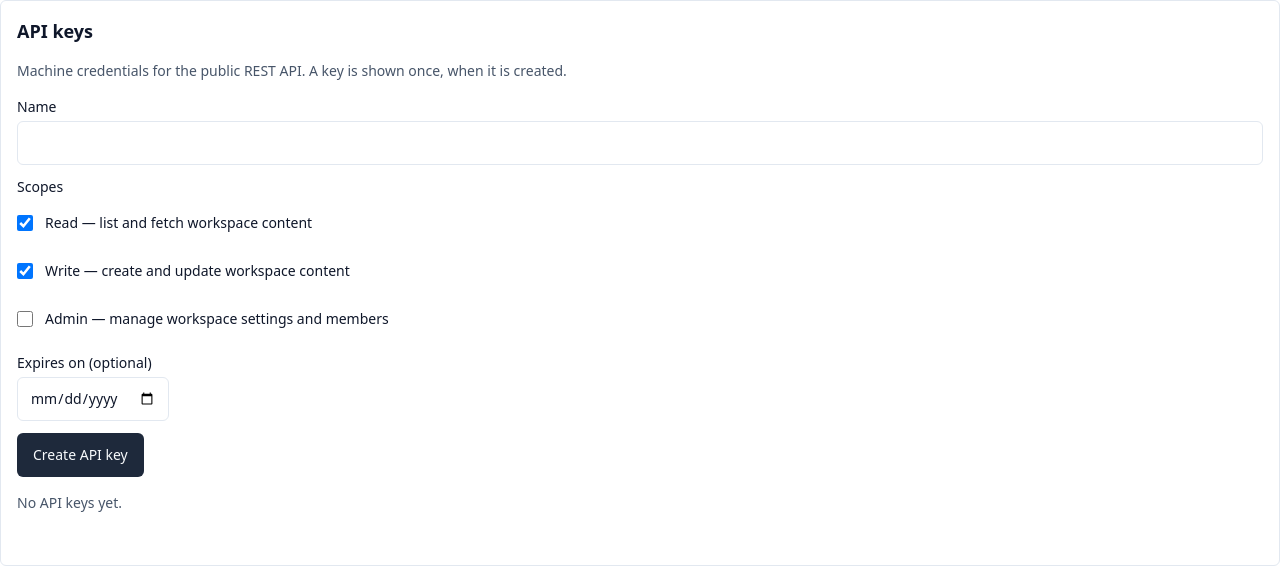
Test: ApiKeys › refuses to submit without a scope and reports it in the live region
The image size is (1280, 583).
Expected: the text "No API keys yet." is shown, [17,493,122,512]
Step 1. Click the checkbox labelled "Read — list and fetch workspace content" → coordinates (25, 223), box [17,215,33,231]
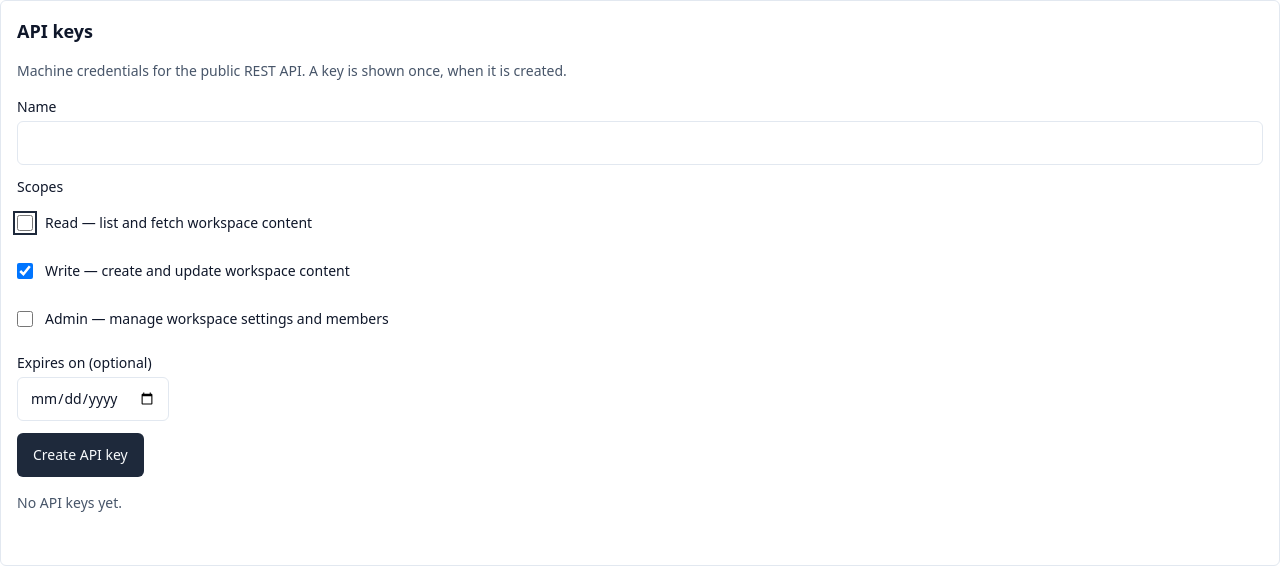
Step 2. Click the checkbox labelled "Write — create and update workspace content" → coordinates (25, 271), box [17,263,33,279]
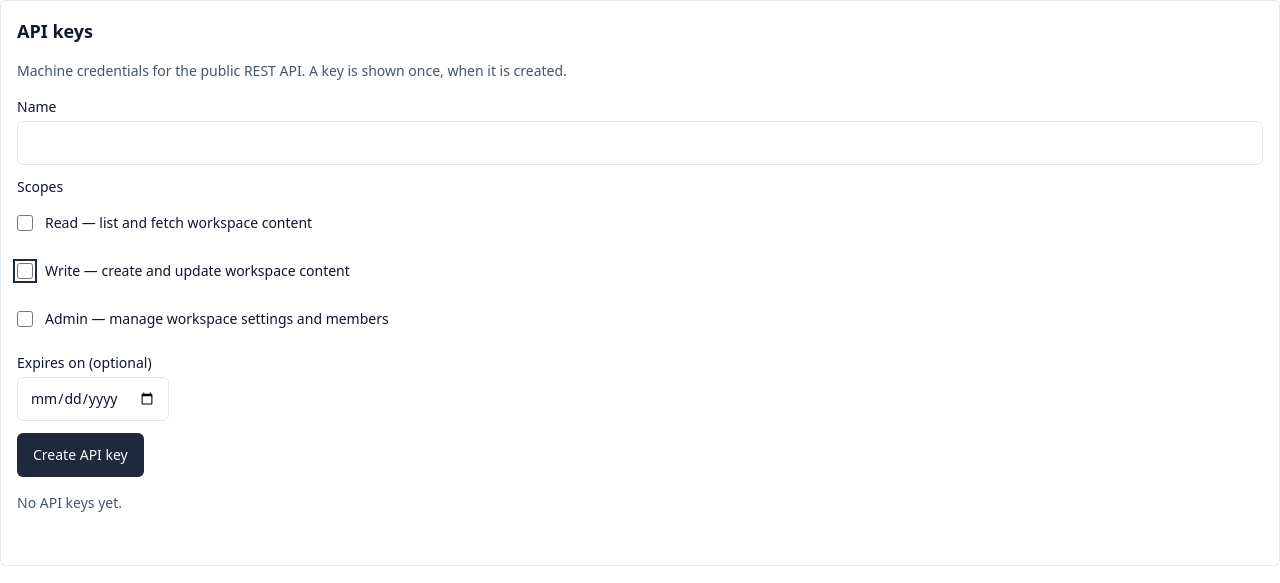
Step 3. Type "CI deploy" into the field labelled "Name" → coordinates (640, 143), box [17,121,1263,165]
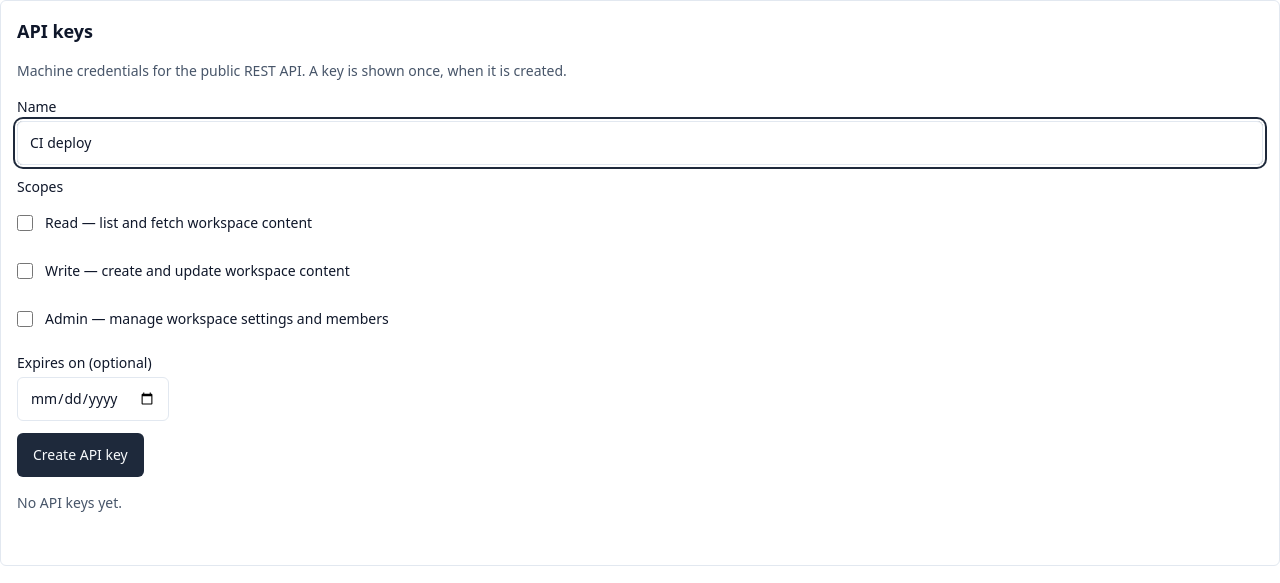
Step 4. Click the button "Create API key" → coordinates (80, 455), box [17,433,144,477]
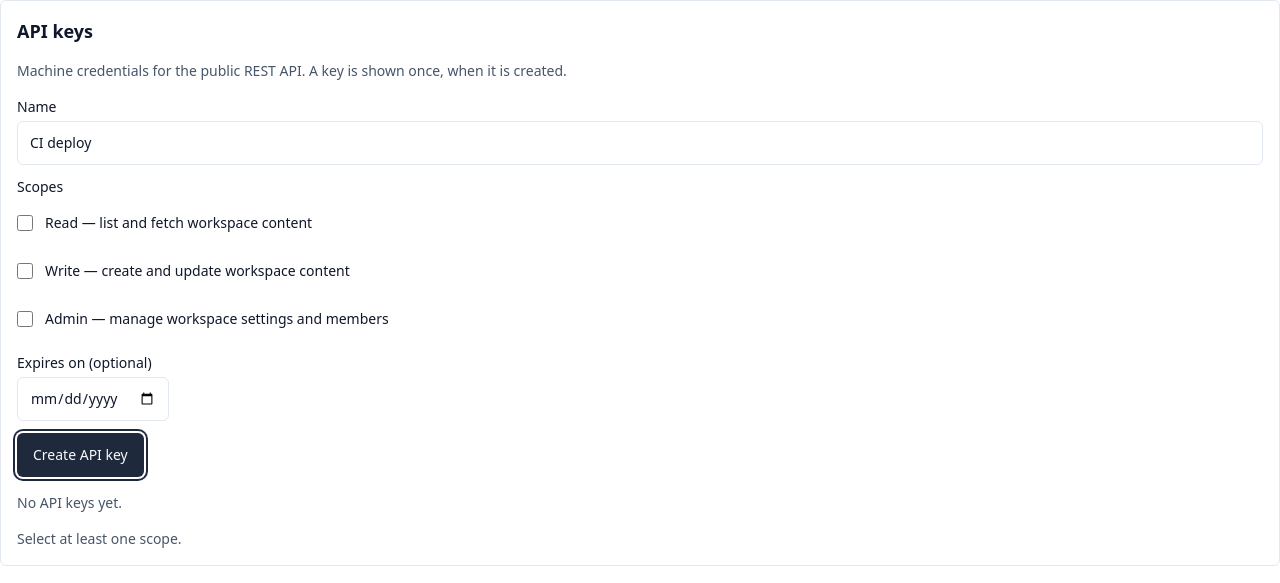
Now the text "Select at least one scope." is shown, box [17,529,182,548]
